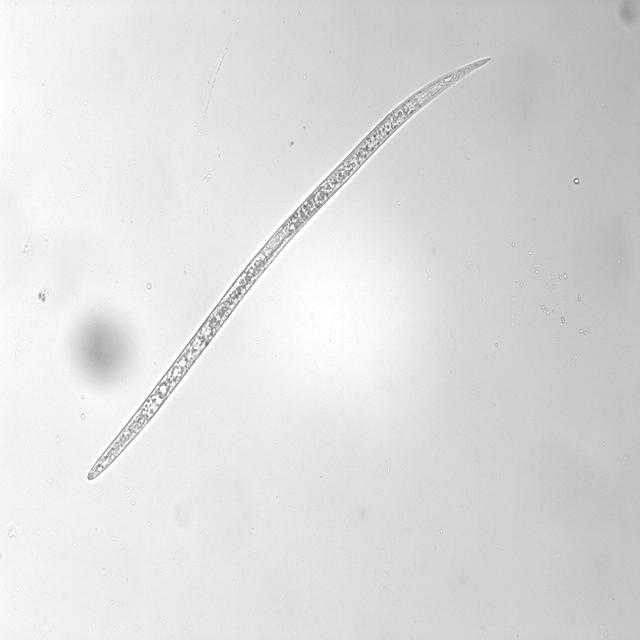Meloidogyne: (84, 50, 499, 484)
